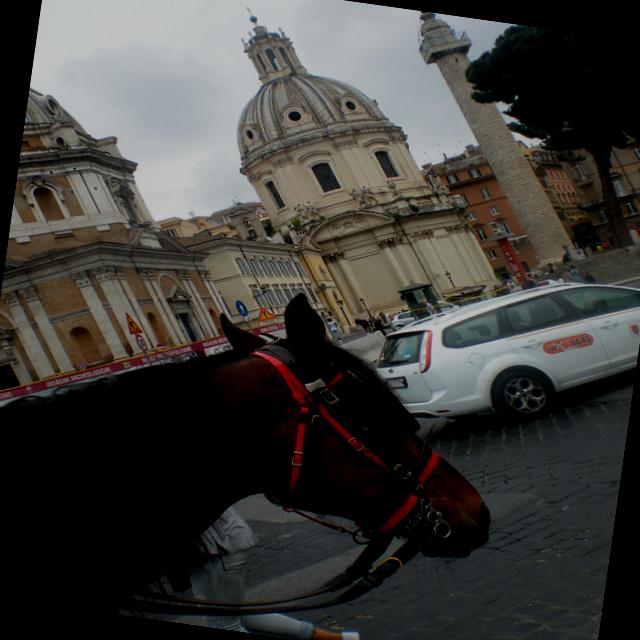Vehicle: (369, 252, 640, 444), (388, 308, 416, 334)
